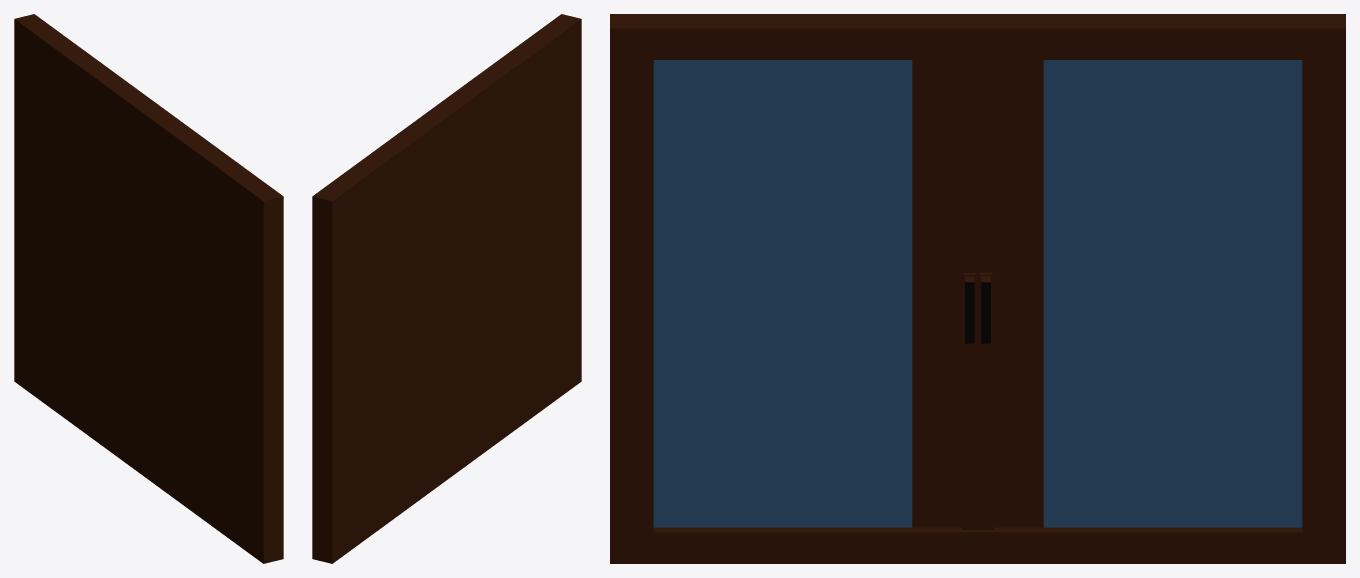
The model's file is window_pp.fbx.
3 renders of one model, left to right at view 1: azimuth 30°, elevation 25°; view 2: azimuth 150°, elevation 25°; view 3: azimuth 270°, elevation 25°, orthographic. The views are drawn at different scales.
Visible parts, largest first — view 1: Cube; view 2: Cube; view 3: Cube.
Boxes of the visible parts, x1,y1,x2,y2 form: Cube: (14, 14, 283, 563); Cube: (312, 14, 581, 563); Cube: (610, 14, 1345, 563).
Bounding box in the file's own units: 36.8 × 446 × 555.
